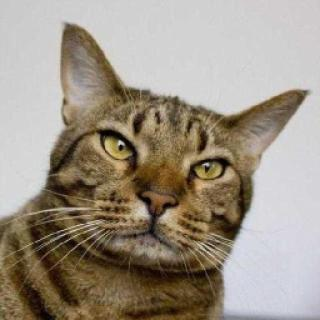cat: (47, 26, 312, 272)
nose: (135, 168, 184, 222)
